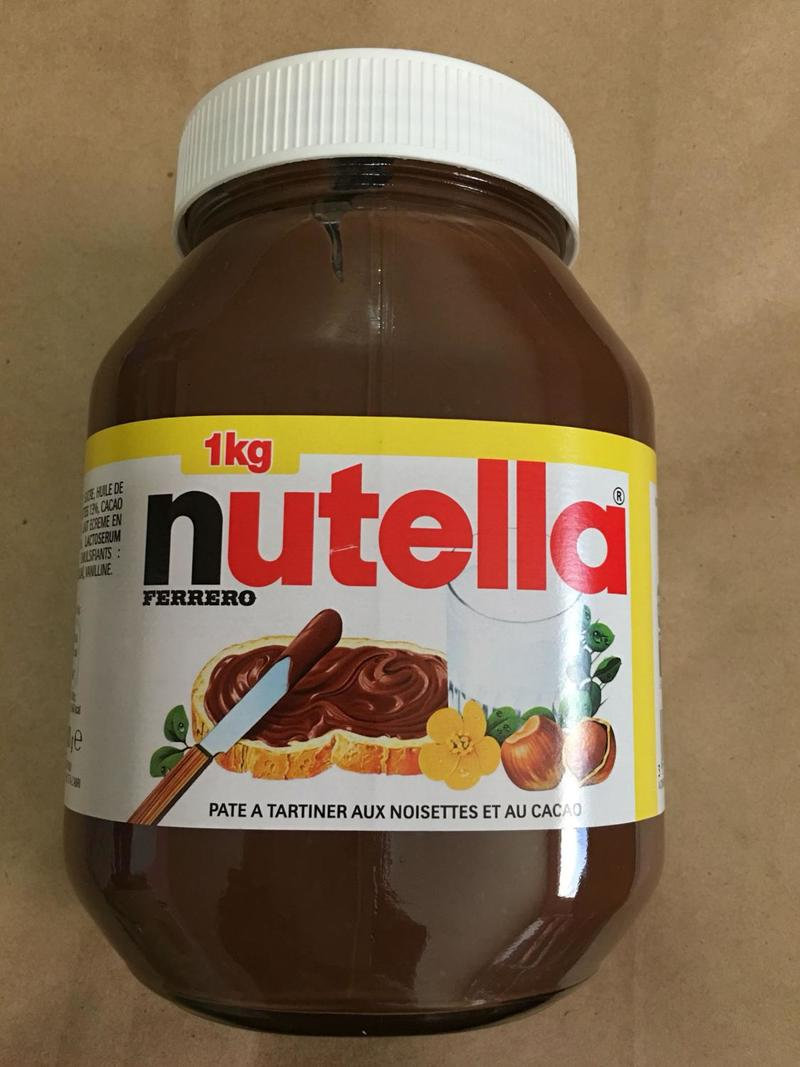nutella: (64, 48, 665, 1041)
